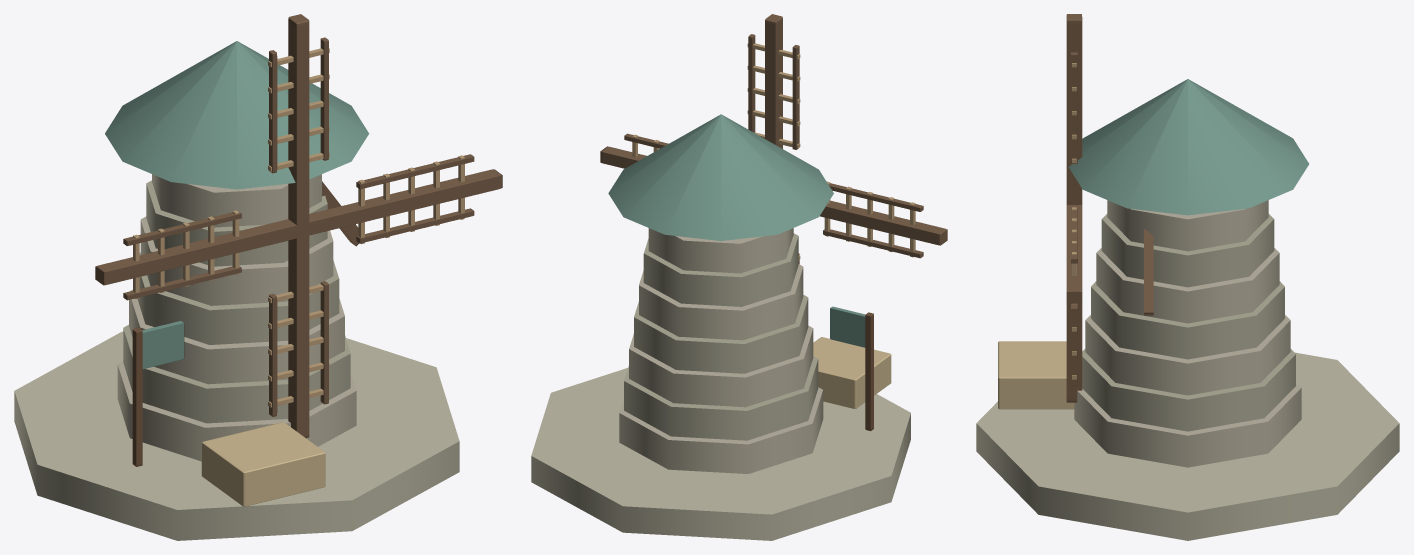
The model's file is oldmill-1.glb.
3 views of the same model, side by side, from view 1: azimuth 30°, elevation 25°; view 2: azimuth 150°, elevation 25°; view 3: azimuth 270°, elevation 25° (orthographic). The views are drawn at different scales.
Visible parts, largest first — view 1: oldmill-1-0, landmark-fan, landmark-restored, landmark-ruin; view 2: oldmill-1-0, landmark-restored, landmark-fan, landmark-ruin; view 3: oldmill-1-0, landmark-restored, landmark-fan, landmark-ruin.
Boxes of the visible parts, x1,y1,x2,y2 form: oldmill-1-0: [14, 174, 459, 540]; landmark-fan: [95, 14, 502, 438]; landmark-restored: [105, 41, 369, 466]; landmark-ruin: [201, 181, 359, 506]; oldmill-1-0: [531, 228, 910, 540]; landmark-restored: [608, 114, 873, 431]; landmark-fan: [600, 14, 947, 264]; landmark-ruin: [813, 337, 891, 408]; oldmill-1-0: [976, 200, 1399, 540]; landmark-restored: [1068, 79, 1308, 215]; landmark-fan: [1066, 14, 1082, 402]; landmark-ruin: [998, 228, 1153, 409].
Bounding box in the file's own units: 2.16 × 2.45 × 2.16.
